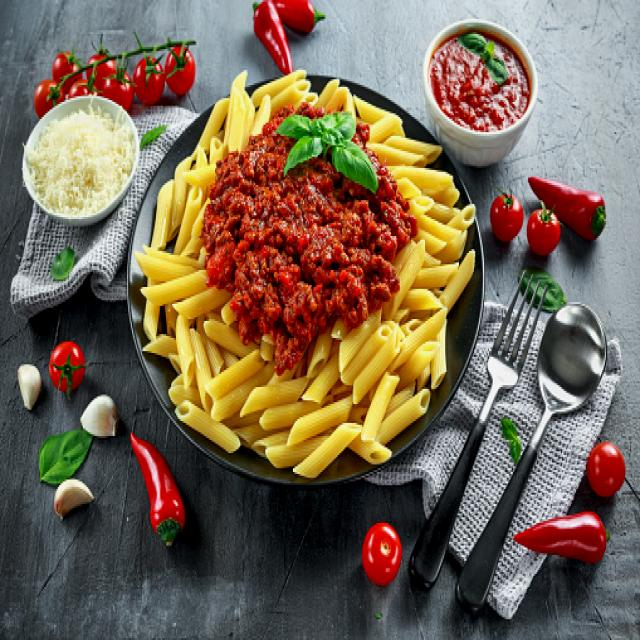pasta: (185, 222, 422, 450)
